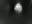person: (15, 4, 23, 17)
